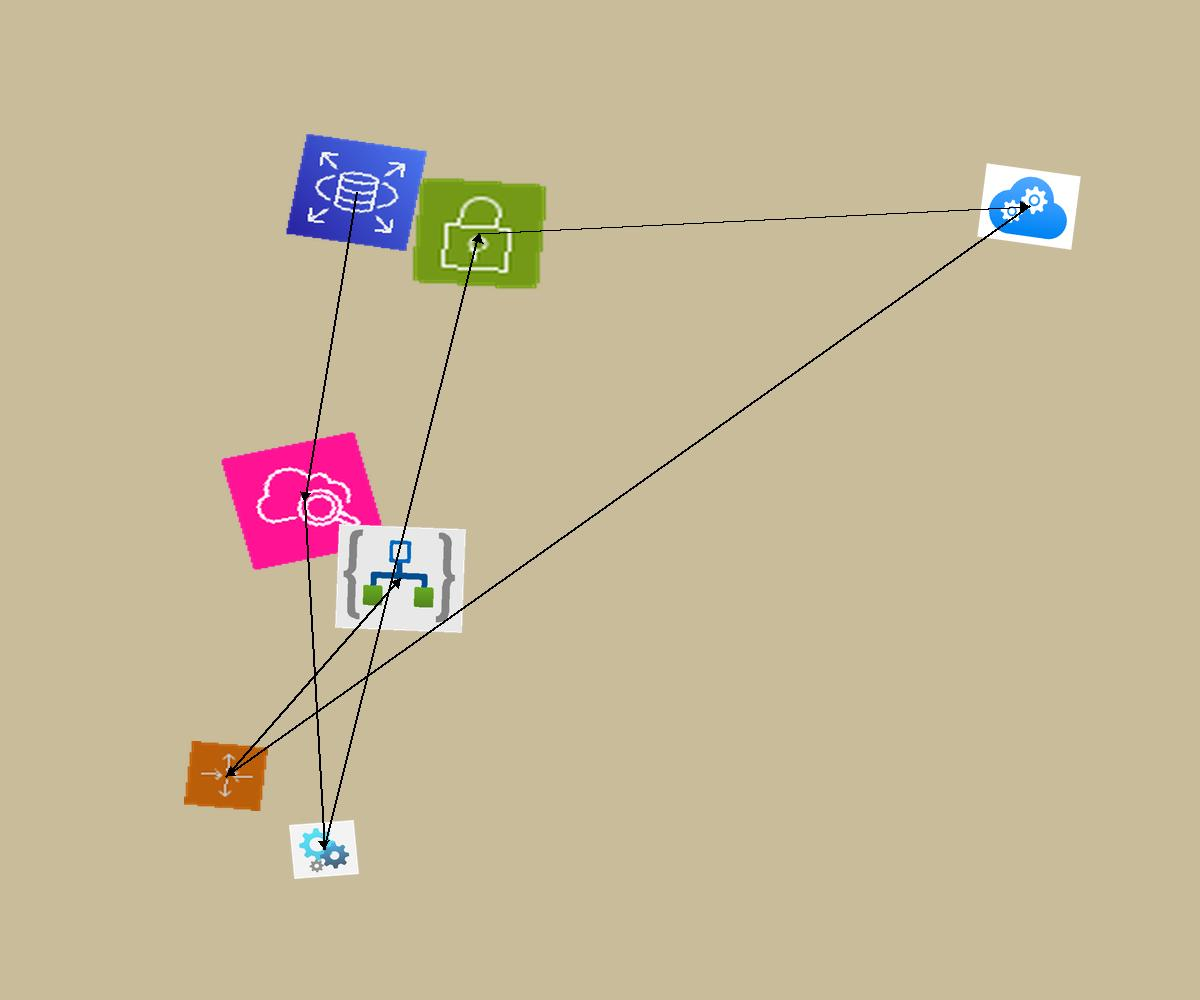AWS-CloudWatch: (220, 431, 388, 571)
AWS-Public-subnet: (410, 176, 549, 291)
AWS-RDS: (285, 133, 428, 252)
AWS-Scaling-group: (184, 741, 268, 811)
Azure_api: (289, 820, 359, 879)
Azure_cloud_services: (977, 163, 1081, 250)
Azure_integration-204-Logic-Apps: (335, 524, 466, 633)
